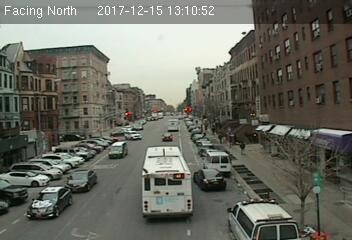bus: (141, 145, 196, 219)
car: (24, 186, 72, 221), (193, 167, 227, 193), (65, 168, 97, 193), (107, 142, 129, 158), (161, 133, 172, 141)
pedestrian: (239, 141, 245, 157)
police: (226, 197, 303, 240)
truck: (204, 151, 232, 174), (166, 119, 179, 132)
